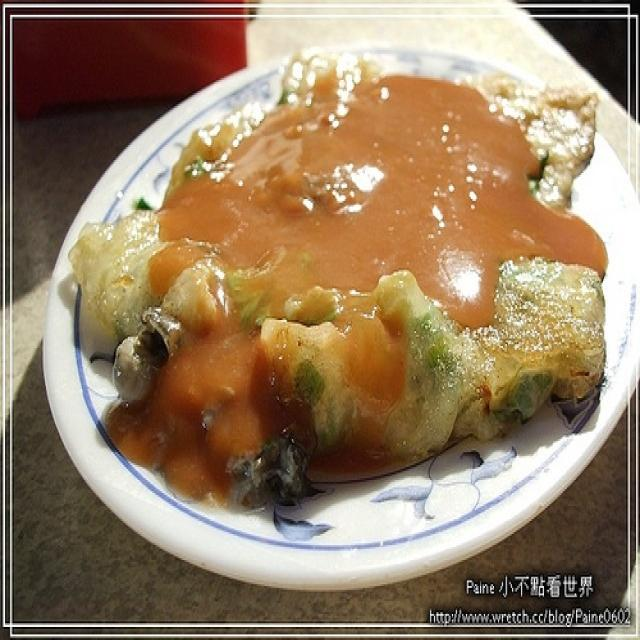熟制海鲜: (33, 41, 627, 592)
